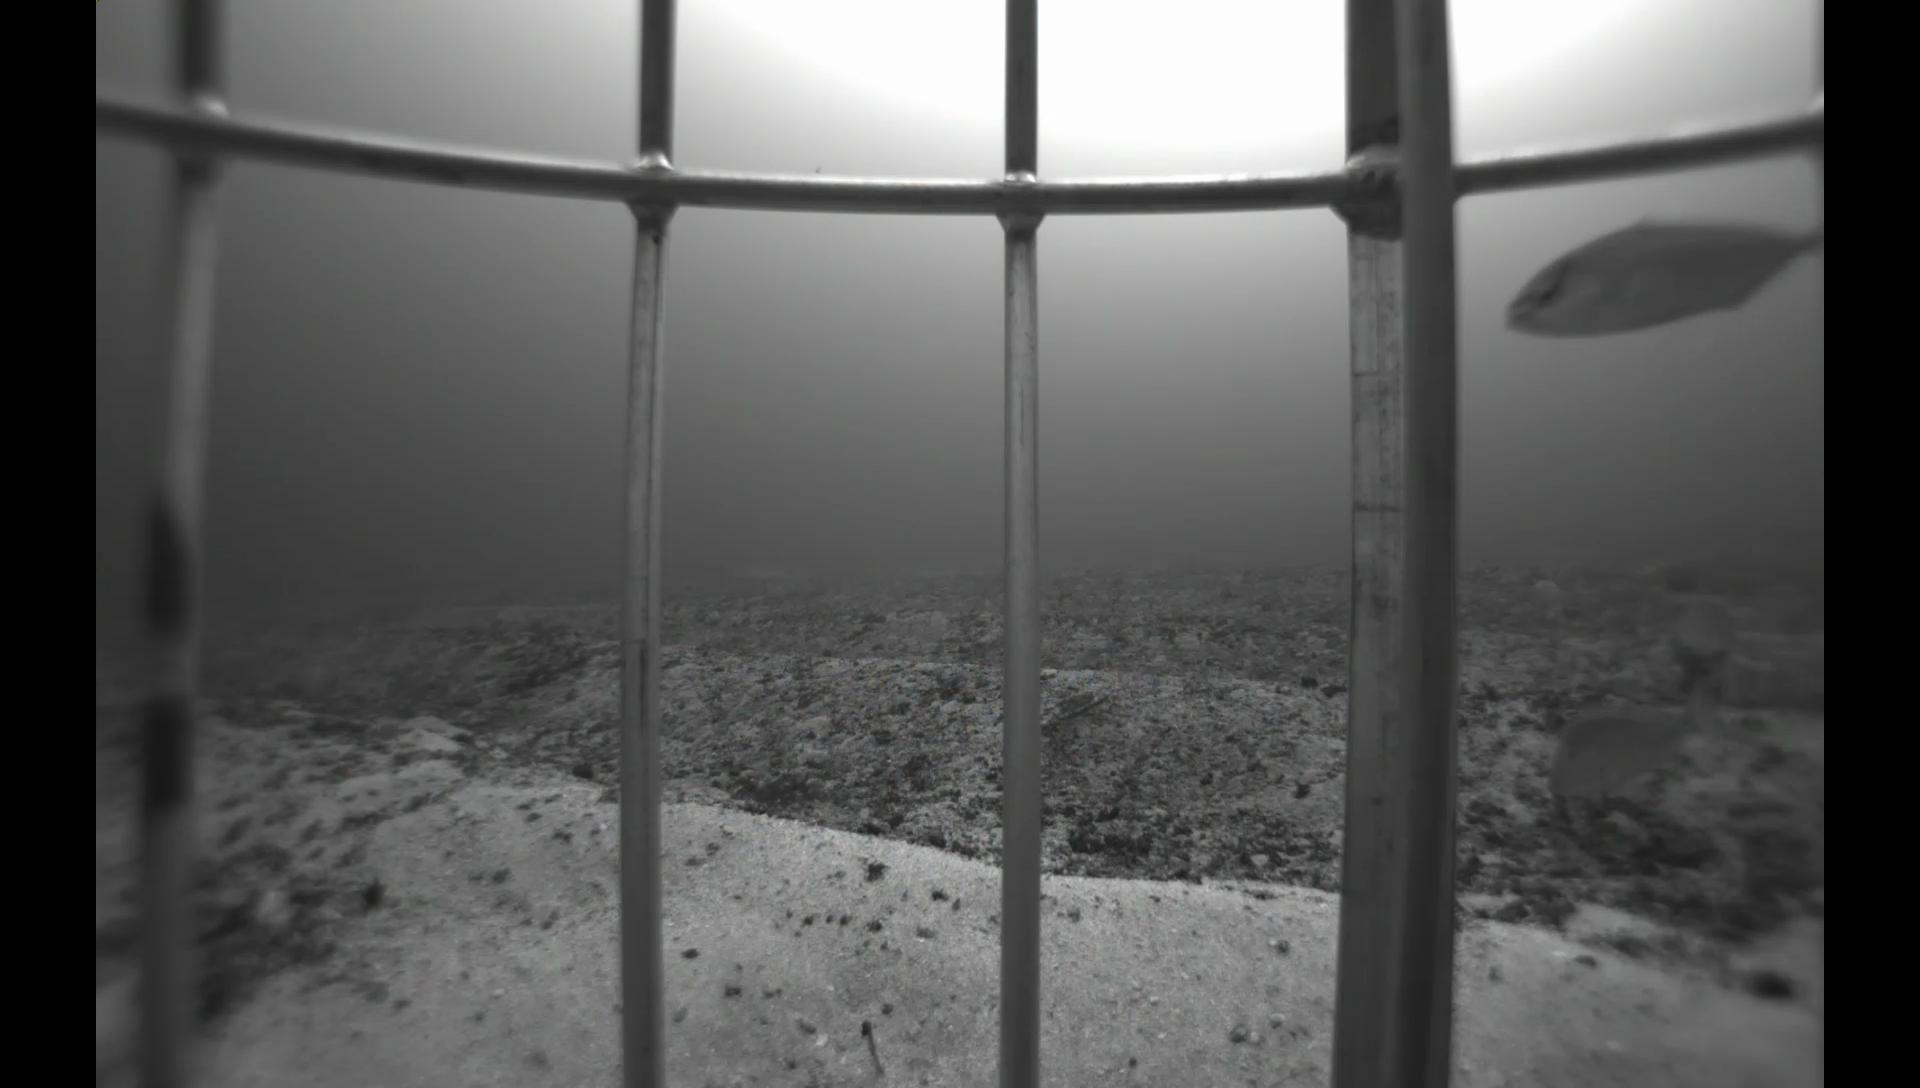CALAMUSPRORIDENS-170210605: (1542, 651, 1760, 807)
RHOMBOPLITESAURORUBENS-170152001: (1658, 589, 1753, 663)
SERIOLAFASCIATA-170113103: (1487, 191, 1822, 353)
